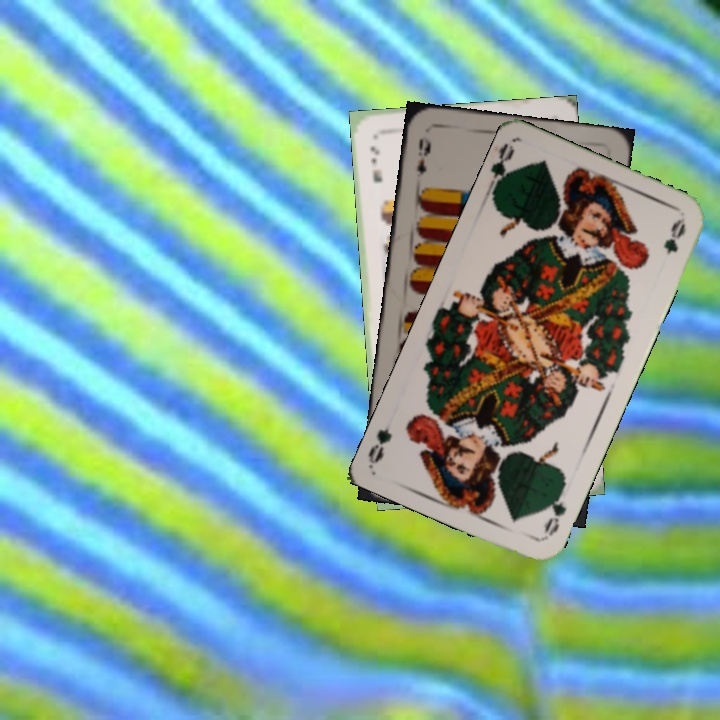E7: (366, 142, 385, 185)
E9: (412, 132, 434, 180)
GO: (481, 140, 517, 200), (540, 483, 569, 540)
